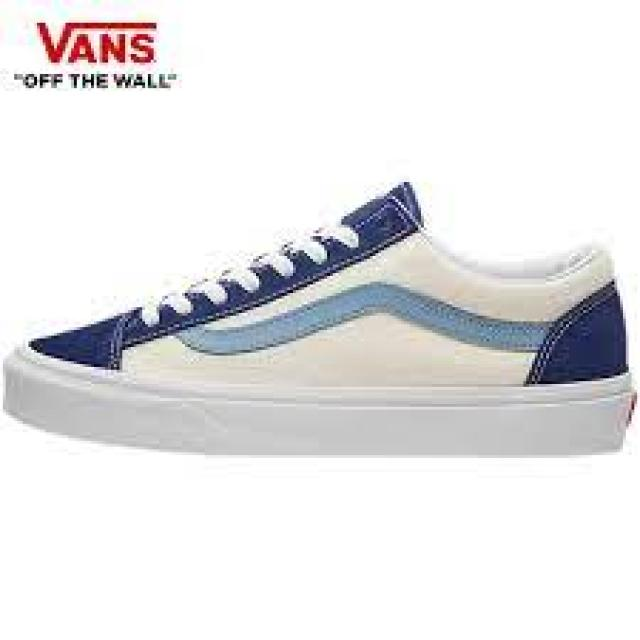shoe: (0, 178, 638, 465)
